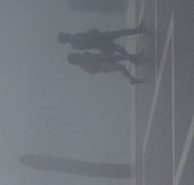person: (55, 22, 148, 59), (66, 50, 147, 86)
